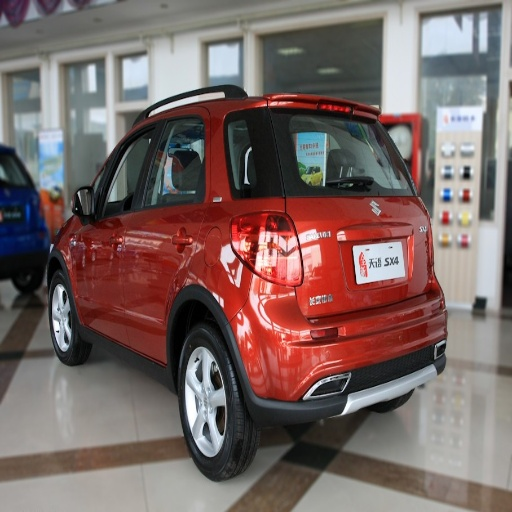back_bumper: (242, 286, 447, 424)
back_glass: (277, 113, 408, 190)
back_left_door: (124, 128, 202, 347)
trunk: (254, 198, 427, 337)
